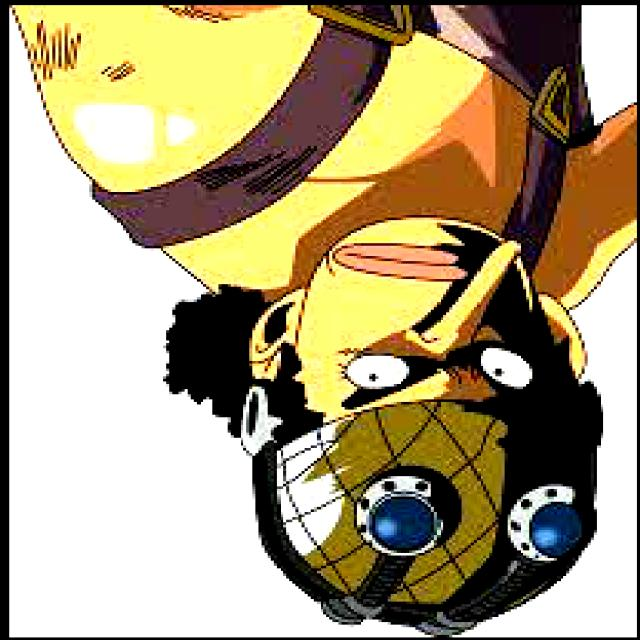Usopp: (12, 0, 637, 640)
